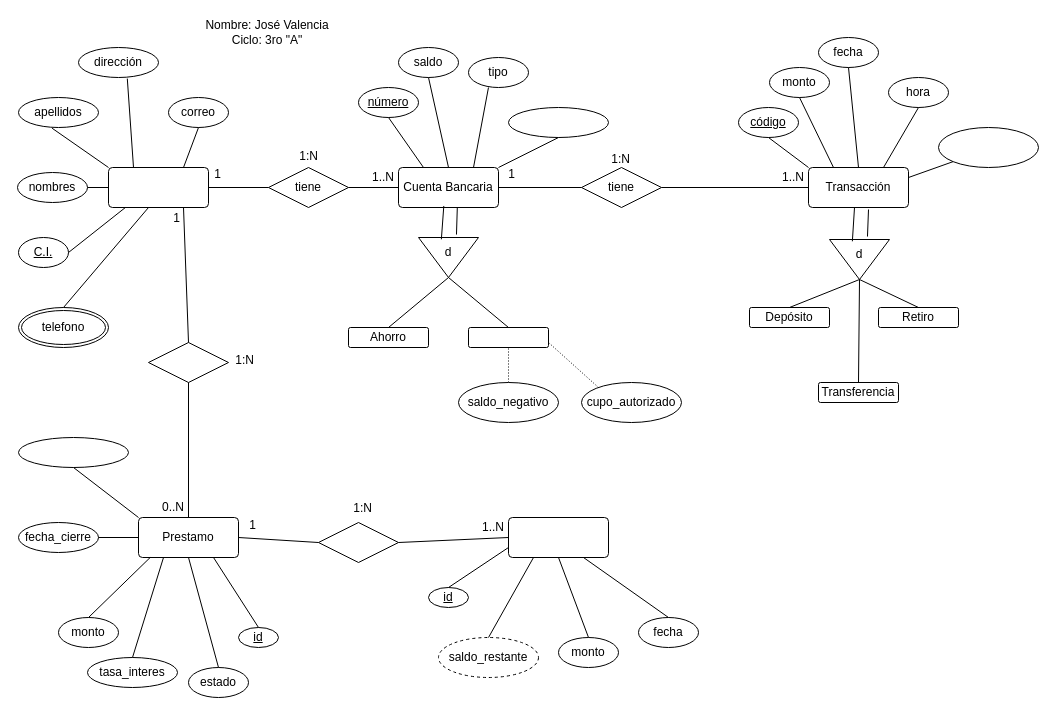
This 1056x715 diagram has some shape labels left out. Here are the shapes that lost their labels. From the top down, the centre of each, then its label:
At (x=558, y=122): "fecha_apertura".
At (x=988, y=147): "cuenta_asociada".
At (x=158, y=187): "Cliente".
At (x=508, y=337): "Corriente".
At (x=188, y=362): "realiza".
At (x=73, y=452): "fecha_otorgada".
At (x=358, y=542): "registra".
At (x=558, y=537): "Pago".
